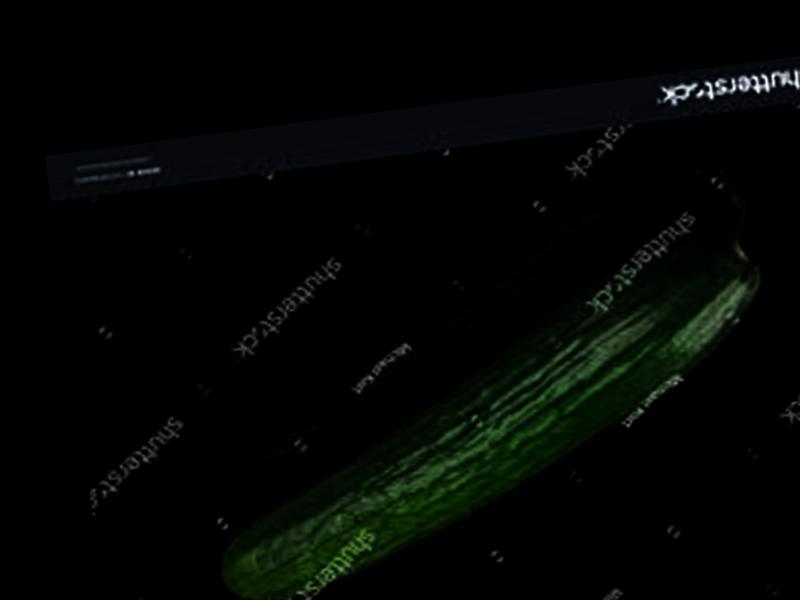Cucumber: (180, 223, 794, 600)
